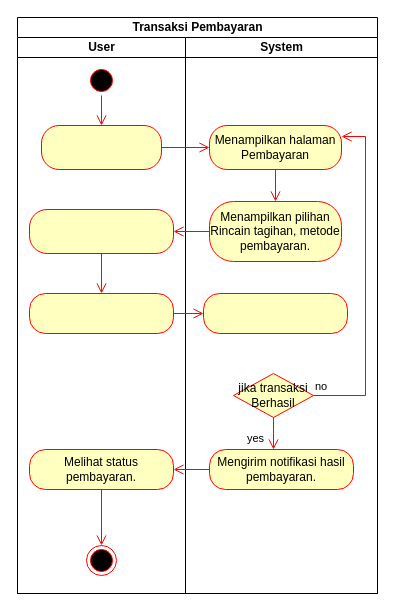
This 395x611 diagram has some shape labels left out. The centre of each missing label's shape, as x and y in pixels:
Melakukan Pembayaran: (x=101, y=313)
Melihat rincian tagihan, Memilih metode pembayaran.: (x=101, y=231)
Membuka menu Pembayaran: (x=101, y=147)
Memvalidasi data pembayaran.: (x=275, y=313)
